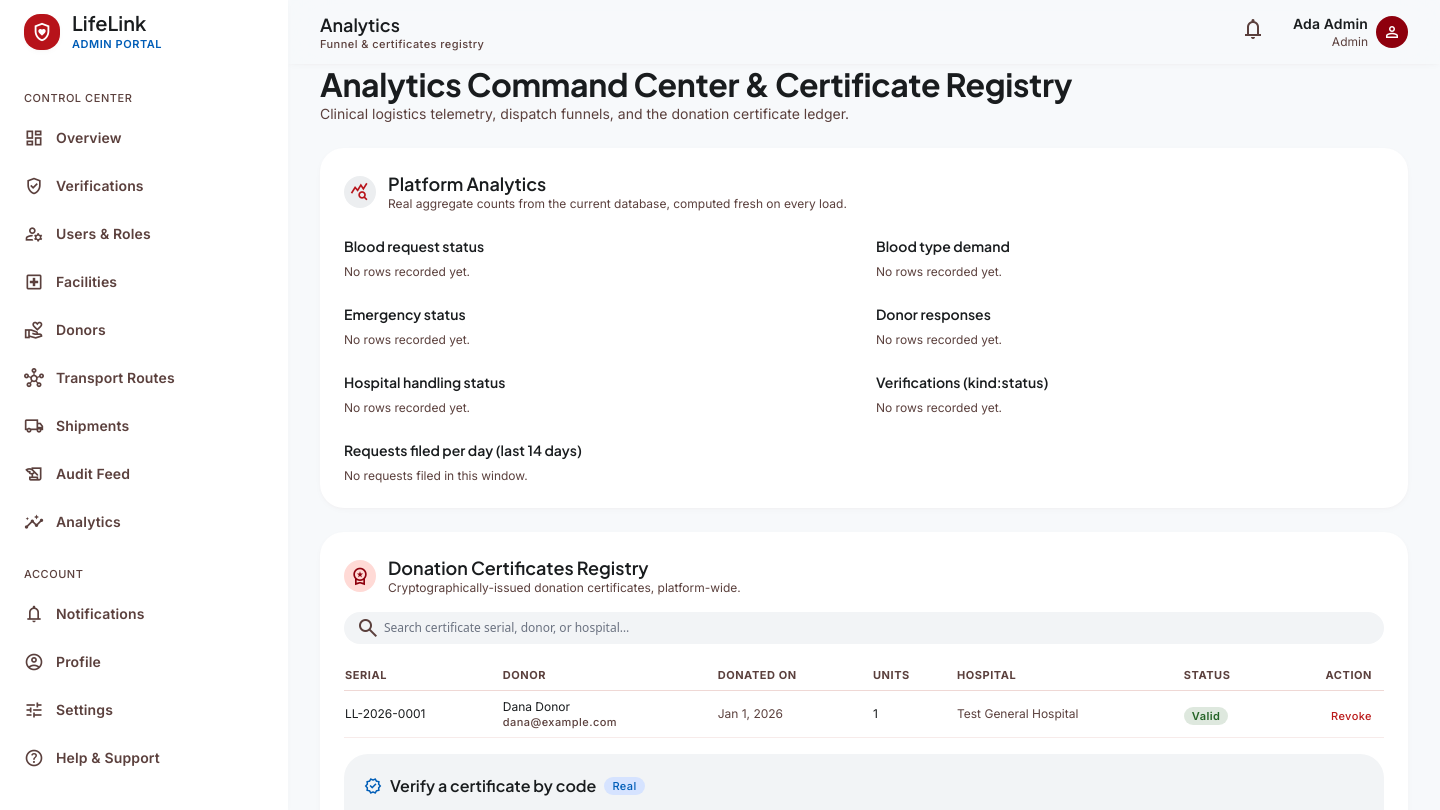
Test case: AdminAnalytics certificate registry › opens the revoke dialog from the row action
Click the button "Revoke" at (1352,716), box [1331,709,1372,723]
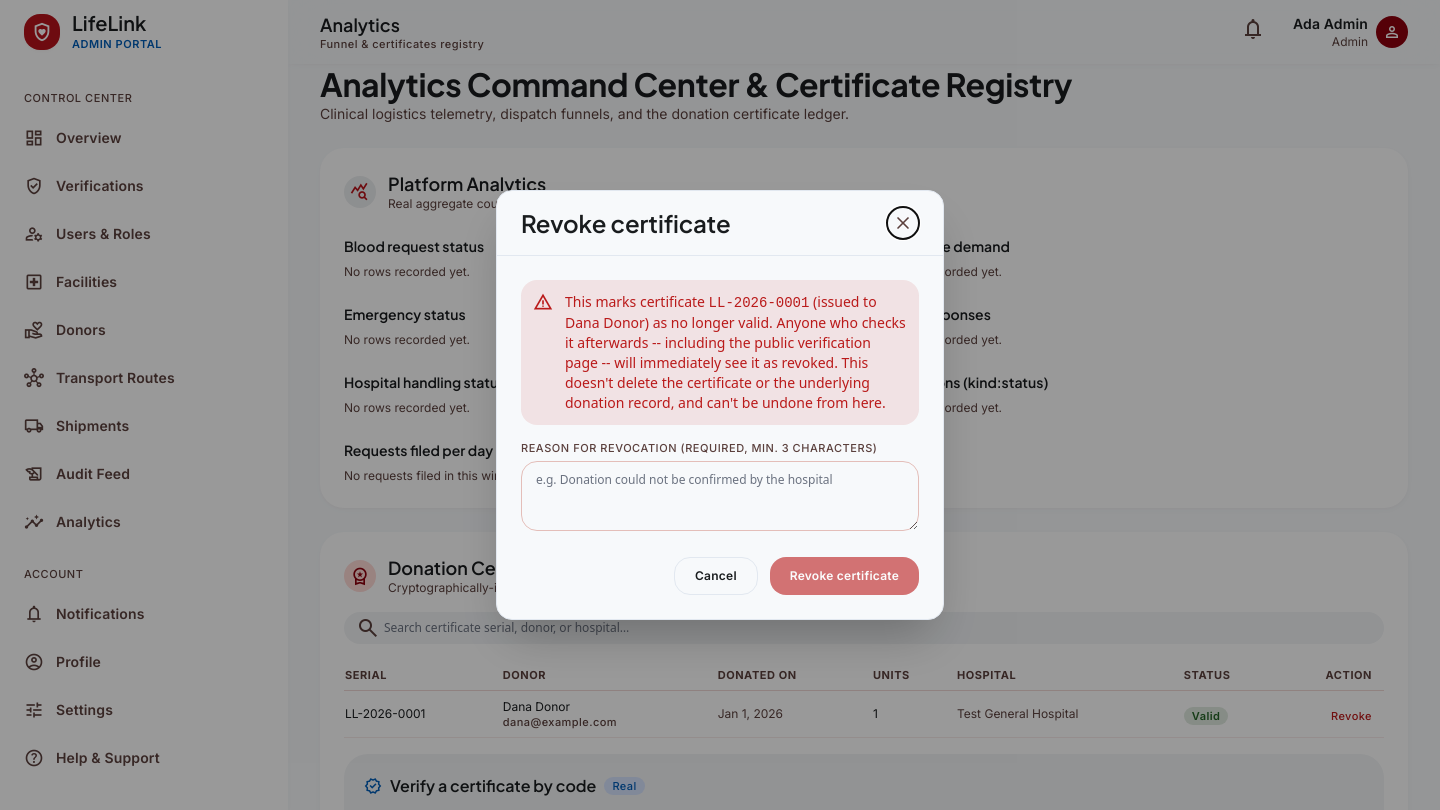
Now the heading "Revoke certificate" is shown, box [521,207,730,239]
